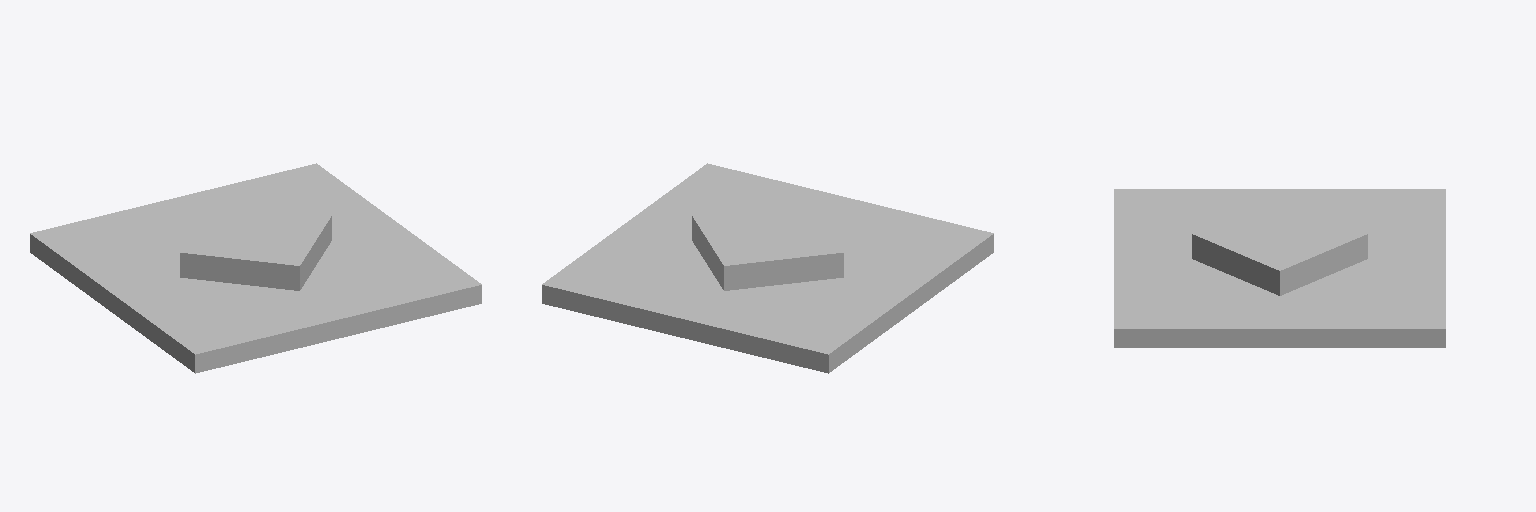
File: Obstacle_diamond_01.obj
3 views of the same model, side by side, from view 1: azimuth 30°, elevation 25°; view 2: azimuth 150°, elevation 25°; view 3: azimuth 270°, elevation 25° (orthographic).
Visible parts, largest first — view 1: Mesh1 Obstacle_diamond Model; view 2: Mesh1 Obstacle_diamond Model; view 3: Mesh1 Obstacle_diamond Model.
Part boxes in pixels (x1,y1,x2,y2): Mesh1 Obstacle_diamond Model: (30,163,481,373); Mesh1 Obstacle_diamond Model: (542,163,993,373); Mesh1 Obstacle_diamond Model: (1114,189,1445,347).
Size of the model in its own units: 3 by 0.44 by 3.